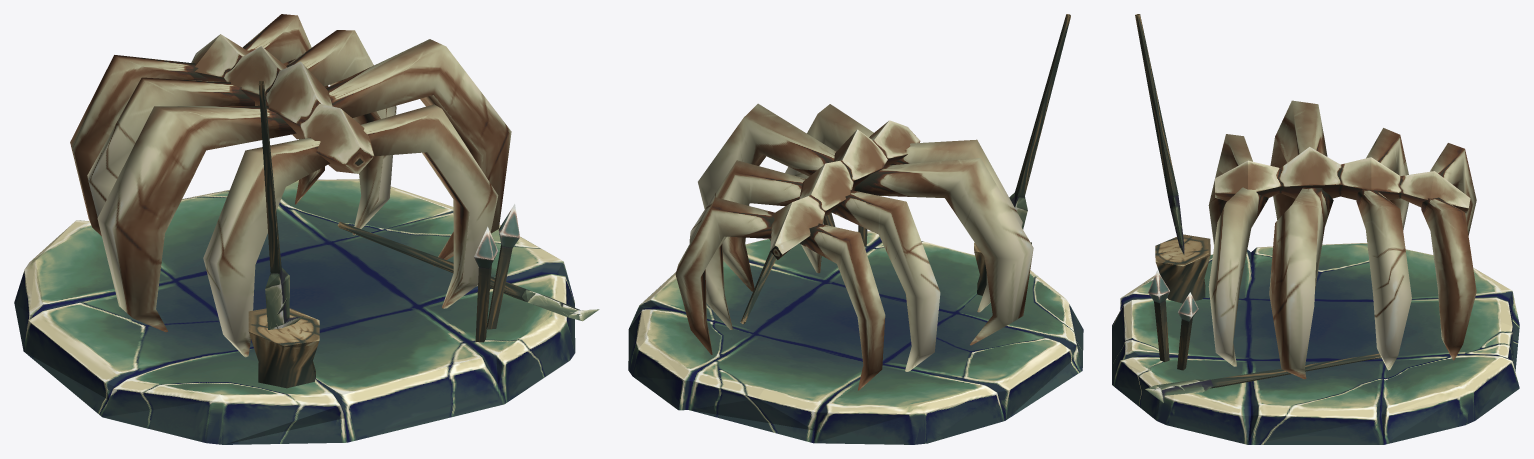
Rendered from Orc_Village_Prop_08.FBX.
3 views of the same model, side by side, from view 1: azimuth 30°, elevation 25°; view 2: azimuth 150°, elevation 25°; view 3: azimuth 270°, elevation 25° (orthographic). The views are drawn at different scales.
Parts seen in each view (by area): view 1: Orc_Village_Prop_08; view 2: Orc_Village_Prop_08; view 3: Orc_Village_Prop_08.
Boxes of the visible parts, <box> form: Orc_Village_Prop_08: <box>14,14,599,444</box>; Orc_Village_Prop_08: <box>628,14,1083,444</box>; Orc_Village_Prop_08: <box>1112,14,1519,444</box>.
Bounding box in the file's own units: 1002 × 741 × 961.
